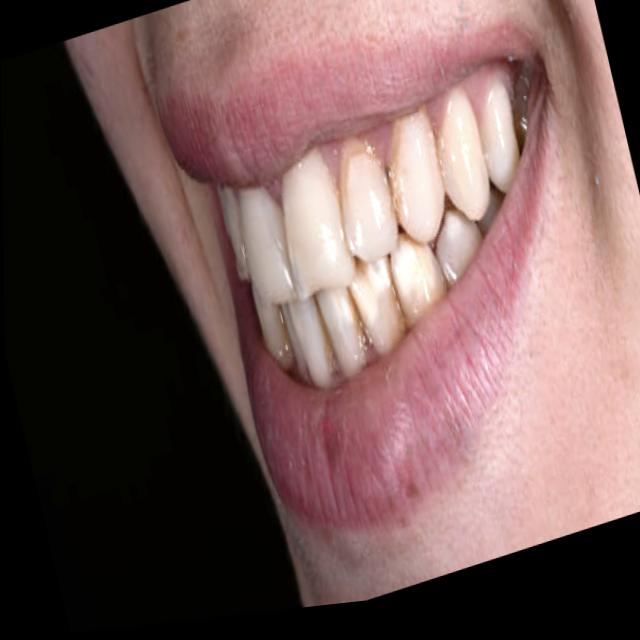calculus: (365, 138, 396, 223), (387, 117, 409, 213), (315, 300, 337, 378), (386, 258, 407, 335), (348, 292, 367, 361), (340, 139, 365, 186), (275, 312, 293, 365)
